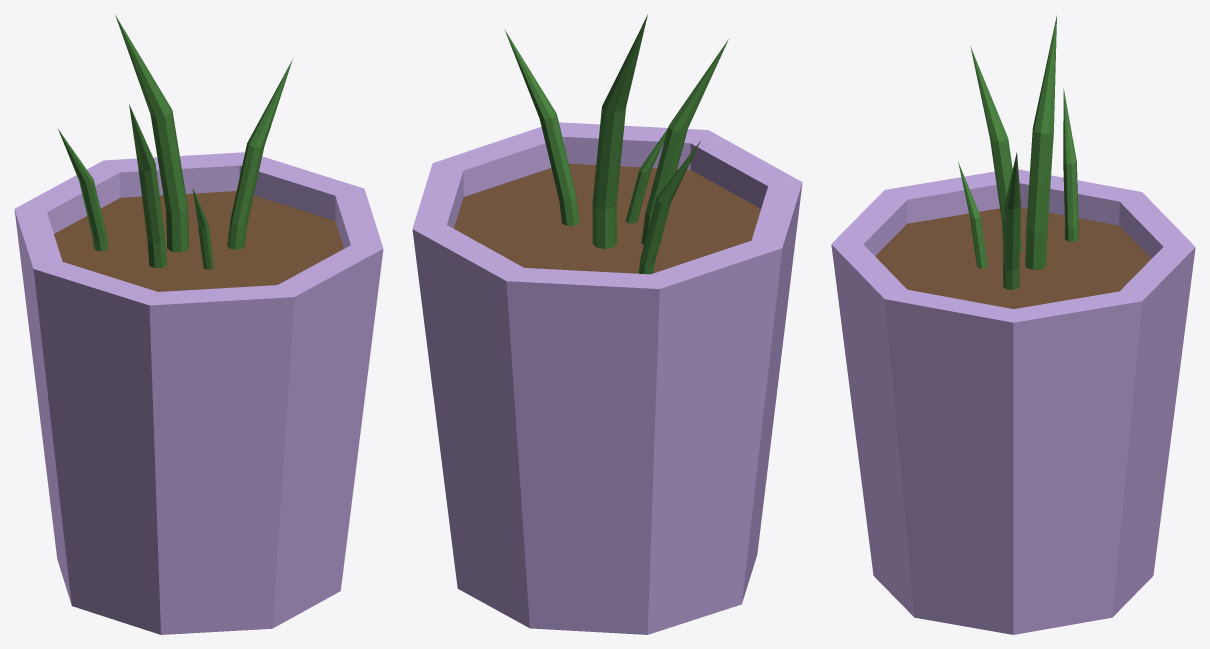
Rendered from Flower_31.fbx.
3 renders of one model, left to right at view 1: azimuth 30°, elevation 25°; view 2: azimuth 150°, elevation 25°; view 3: azimuth 270°, elevation 25°, orthographic. The views are drawn at different scales.
Parts seen in each view (by area): view 1: Flower_31; view 2: Flower_31; view 3: Flower_31.
Part boxes in pixels (x1,y1,x2,y2): Flower_31: (14, 15, 383, 634); Flower_31: (412, 14, 802, 634); Flower_31: (831, 15, 1195, 634).
Bounding box in the file's own units: 33.71 × 33.71 × 54.44.
